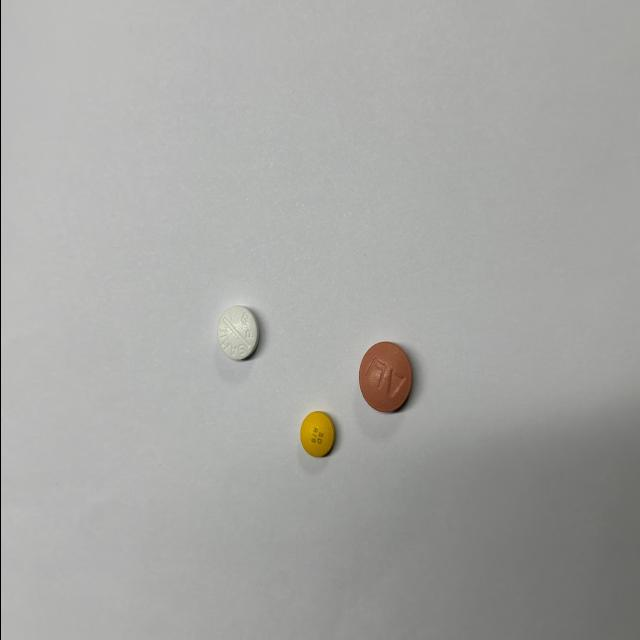Piller: (358, 342, 411, 412), (216, 305, 258, 360), (299, 412, 334, 457)
